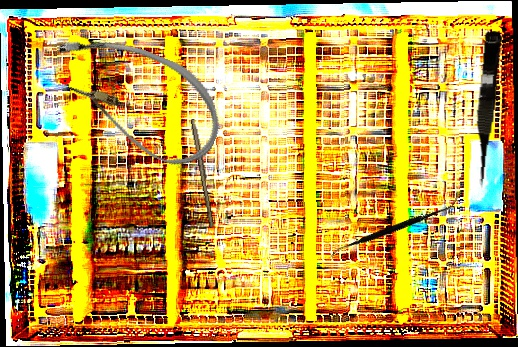Cannula: (33, 19, 237, 177)
Micro Scissor: (468, 29, 503, 191)
Scalpel Handle: (188, 118, 218, 228)
Spatula Surgical: (329, 157, 459, 297)
